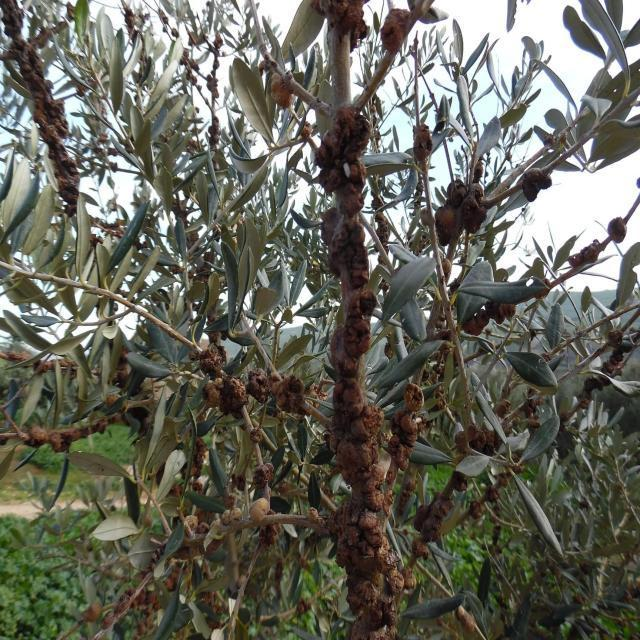Tuberculosis: (0, 0, 79, 216), (328, 498, 403, 640), (321, 208, 376, 381), (331, 380, 384, 511), (316, 105, 370, 219), (21, 414, 121, 454), (435, 179, 487, 246), (312, 0, 368, 52), (414, 488, 454, 542), (96, 588, 138, 638), (461, 300, 516, 334), (388, 410, 417, 470), (203, 378, 247, 417), (270, 374, 306, 416), (268, 61, 298, 110), (381, 8, 410, 54), (468, 421, 501, 456), (521, 166, 552, 202), (601, 331, 625, 376), (247, 368, 270, 404), (568, 239, 597, 267), (413, 123, 432, 162), (256, 524, 282, 552), (200, 345, 222, 377), (249, 498, 272, 525), (253, 462, 274, 491), (404, 382, 424, 412), (206, 115, 221, 152), (184, 515, 207, 539), (606, 217, 626, 244), (206, 58, 220, 96), (449, 469, 468, 492), (221, 508, 243, 526), (307, 506, 322, 524), (250, 426, 263, 444)
